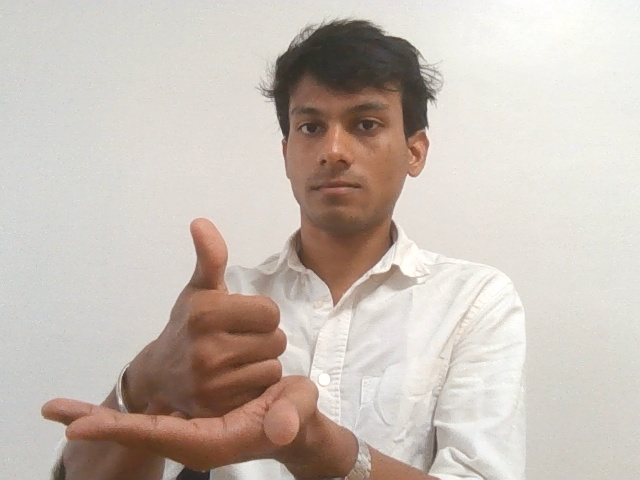Help: (34, 217, 325, 473)
